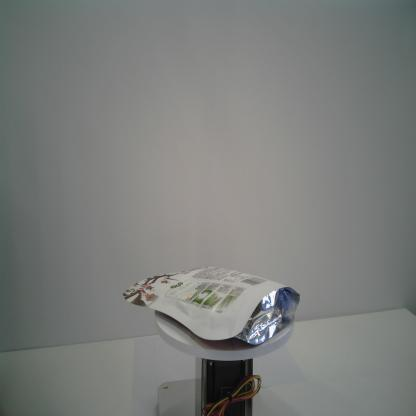Dried Fruit: (122, 265, 301, 346)
